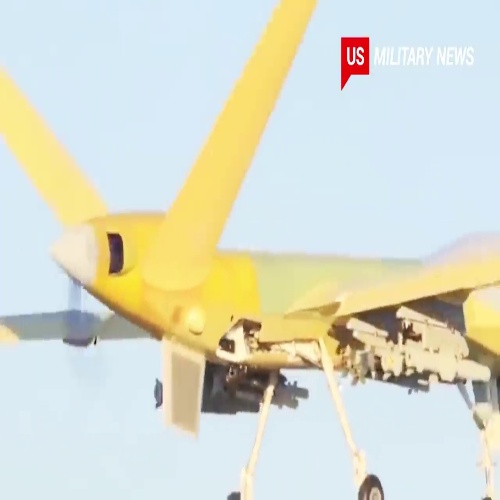uav603: (1, 2, 498, 497)
